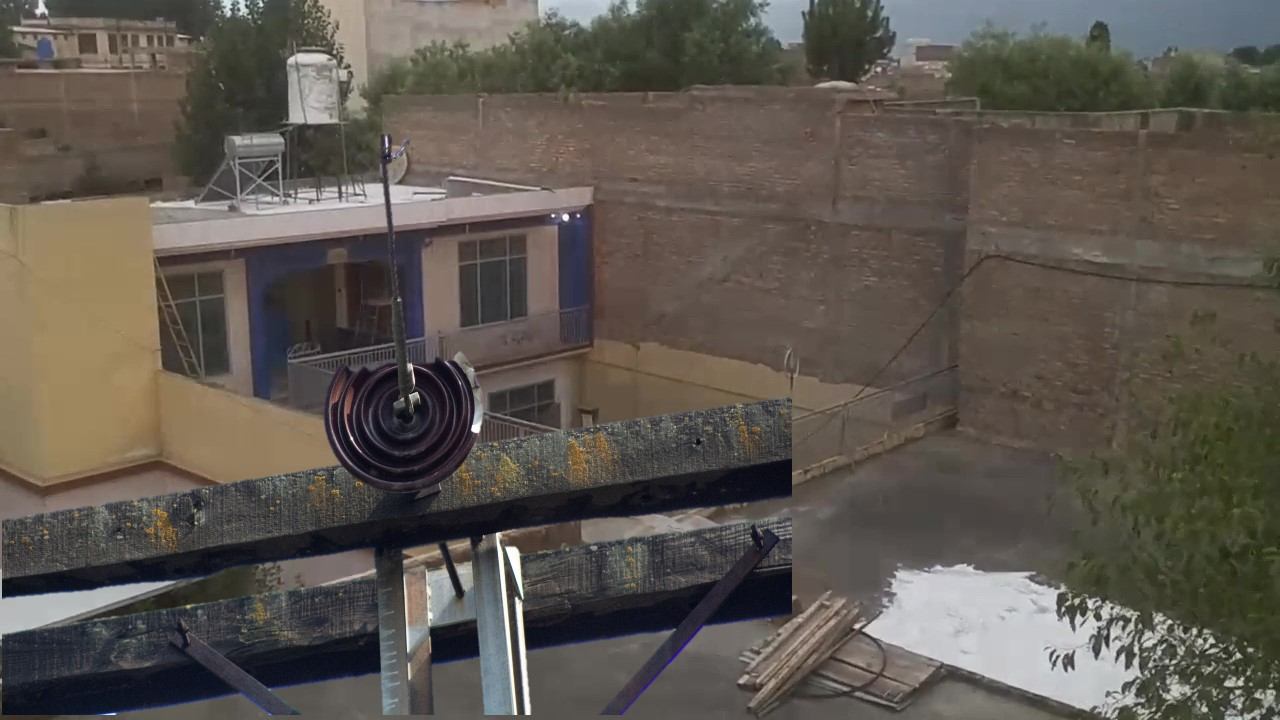defect_disc: (322, 347, 492, 486)
